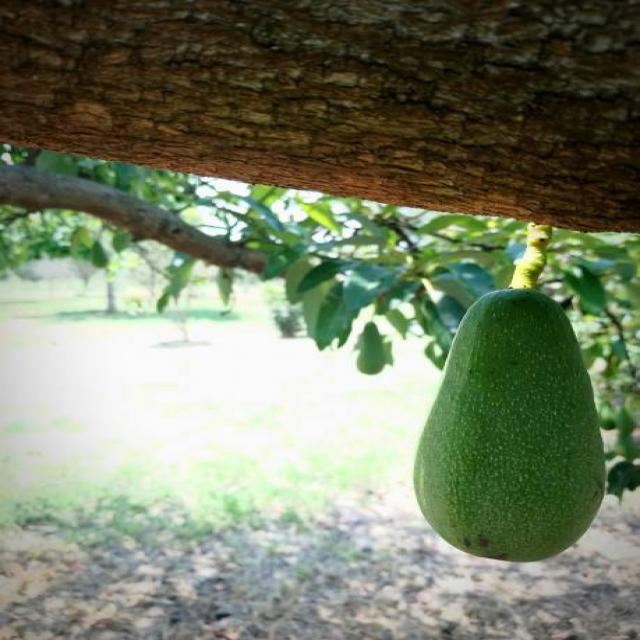Avocado: (413, 265, 614, 564)
